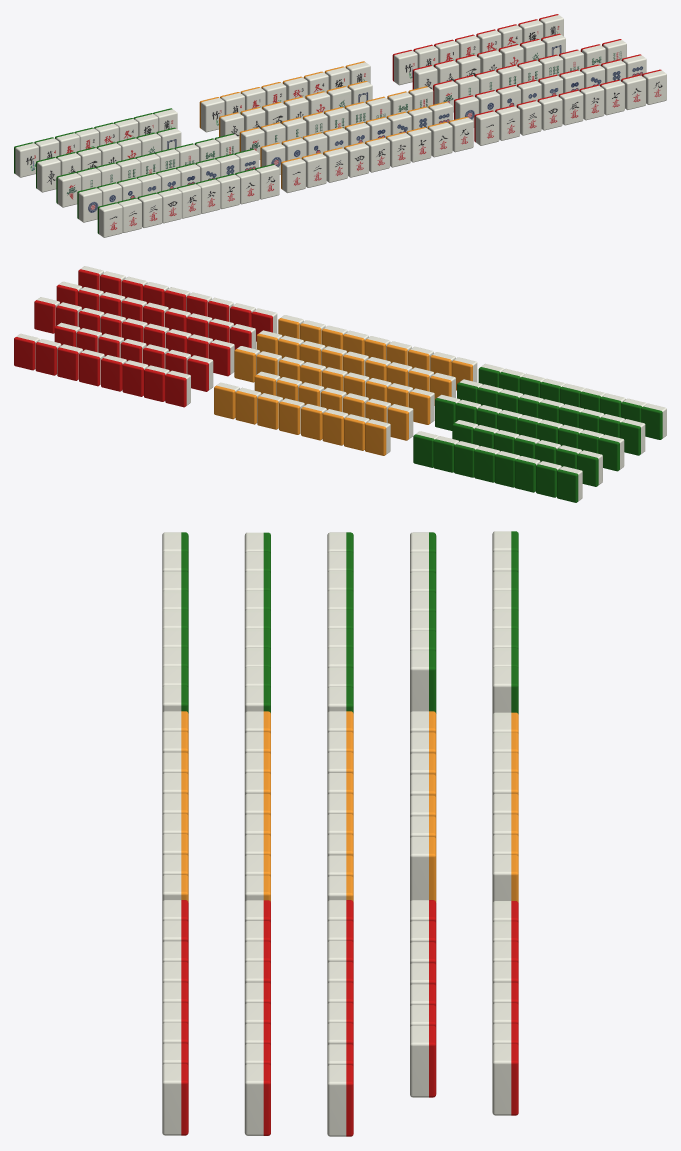
File: Mahjong.fbx
3 views of the same model, one above another, from view 1: azimuth 30°, elevation 25°; view 2: azimuth 150°, elevation 25°; view 3: azimuth 270°, elevation 25° (orthographic). The views are drawn at different scales.
Visible parts, largest first — view 1: Wan1 (×3), Zhu (×3), Wan3 (×3), Wan8 (×3), Wan9 (×3), Wan7 (×3), Wan4 (×3), Wan6 (×3), Wan2 (×3), Wan5 (×3), Tiao1 (×3), Bing1 (×3) (+31 smaller); view 2: Zhu (×3), Dong (×3), Tiao1 (×3), Mei (×3), Chun (×3), Qiu (×3), Dong1 (×3), Xia (×3), Tiao9 (×3), Ju (×3), Wan1 (×3), Bing1 (×3) (+31 smaller); view 3: Bai (×3), Lan (×2), Wan9, lan, Tiao9, Bing9.
Part boxes in pixels (x1,y1,x2,y2): Wan1 (×3): (97, 110, 499, 237); Zhu (×3): (14, 50, 417, 177); Wan3 (×3): (137, 100, 541, 227); Wan8 (×3): (235, 74, 645, 204); Wan9 (×3): (255, 69, 666, 199); Wan7 (×3): (215, 79, 624, 209); Wan4 (×3): (157, 95, 562, 223); Wan6 (×3): (196, 85, 604, 213); Wan2 (×3): (117, 105, 519, 232); Wan5 (×3): (176, 90, 583, 218); Tiao1 (×3): (56, 80, 457, 207); Bing1 (×3): (77, 95, 478, 222); Zhu (×3): (165, 370, 582, 502); Dong (×3): (187, 355, 602, 486); Tiao1 (×3): (209, 339, 624, 471); Mei (×3): (35, 339, 459, 472); Chun (×3): (122, 360, 540, 492); Qiu (×3): (79, 349, 499, 482); Dong1 (×3): (57, 344, 479, 477); Xia (×3): (101, 355, 519, 487); Tiao9 (×3): (34, 297, 460, 430); Ju (×3): (144, 365, 561, 497); Wan1 (×3): (251, 308, 666, 439); Bing1 (×3): (230, 324, 645, 455); Bai (×3): (410, 650, 436, 1097); Lan (×2): (492, 666, 518, 903); Wan9: (162, 1063, 188, 1135); lan: (492, 1043, 518, 1115); Tiao9: (327, 1064, 353, 1136); Bing9: (244, 1064, 270, 1135).
Bounding box in the file's own units: 68.5 × 3.17 × 18.68.
